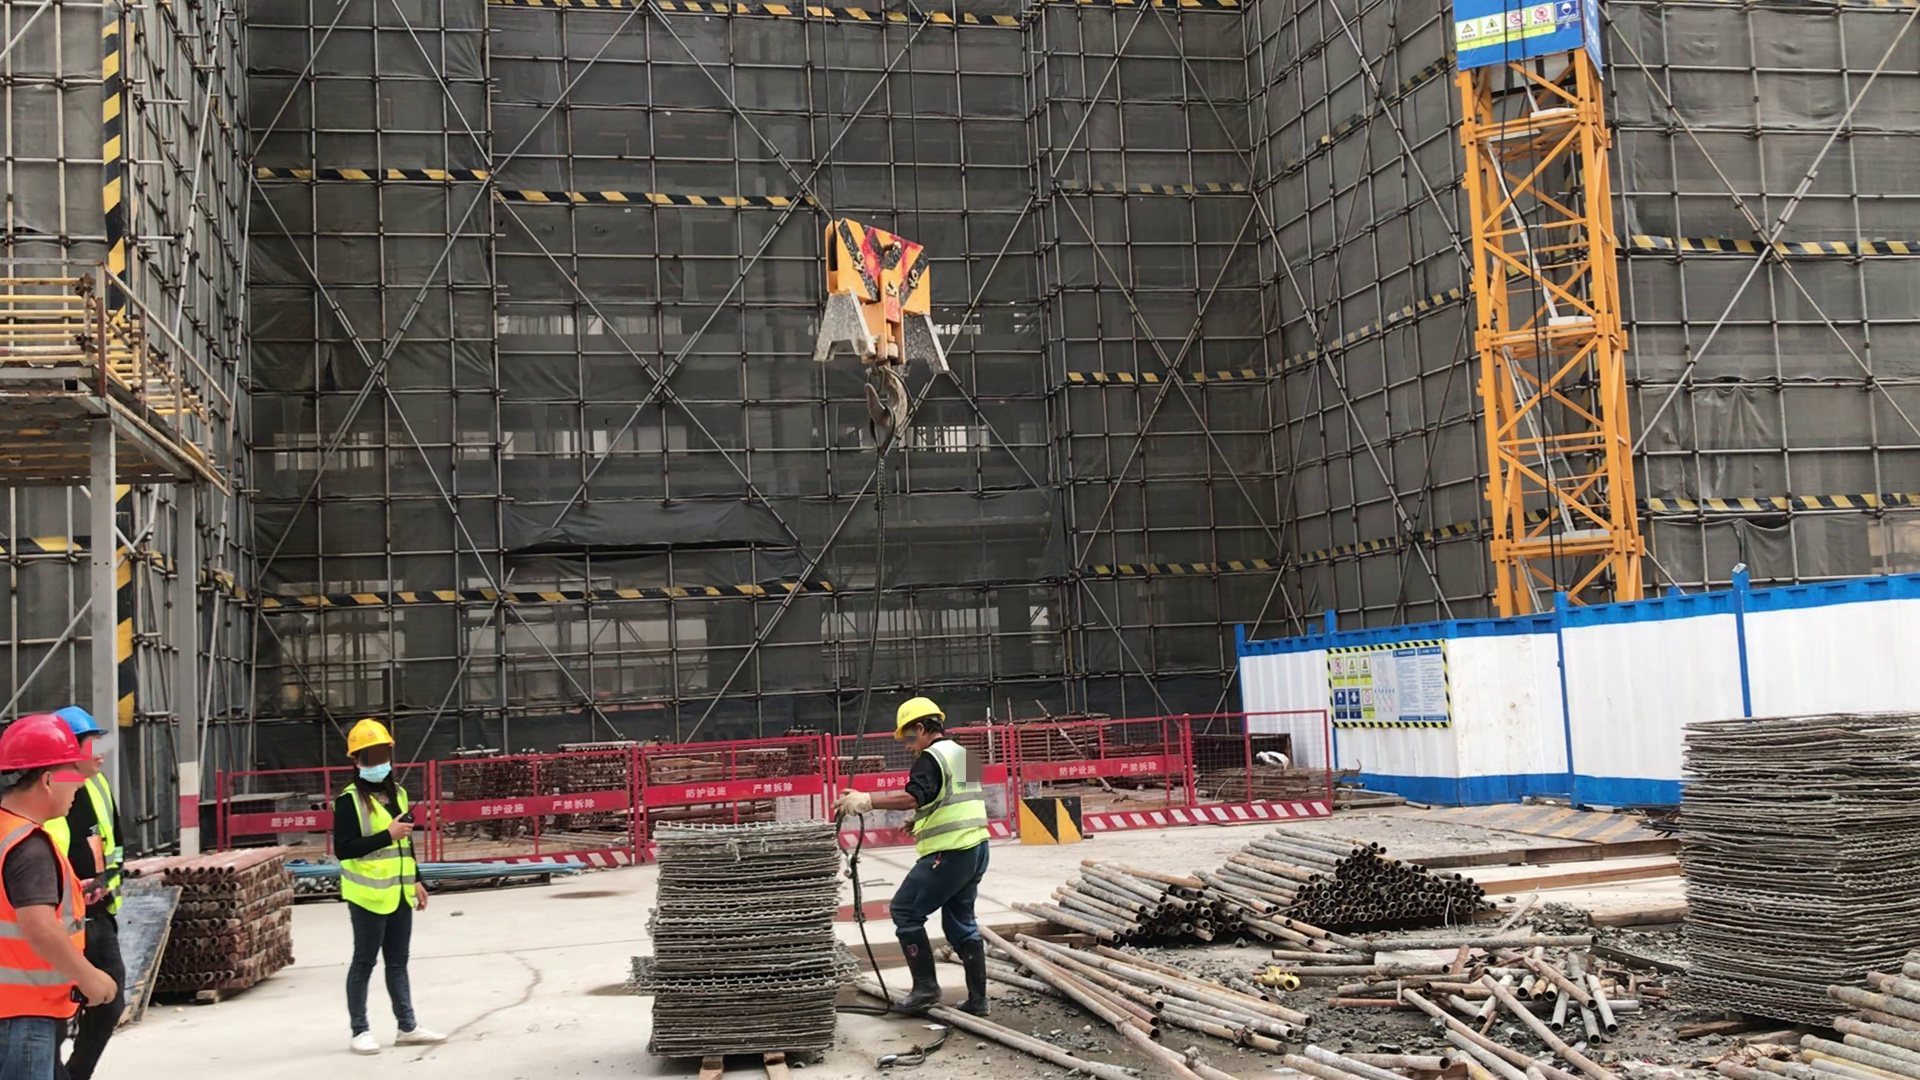fence: (1077, 711, 1332, 832), (430, 749, 651, 861), (652, 732, 828, 813), (213, 763, 328, 839)
helmet: (4, 720, 93, 776), (891, 697, 952, 742), (344, 719, 395, 765), (67, 708, 108, 743)
hook: (797, 216, 951, 432)
person: (323, 716, 456, 1052), (1, 716, 121, 1080), (882, 697, 999, 1020)
scaffold: (1237, 831, 1482, 935), (145, 843, 299, 991), (1011, 860, 1241, 957)
slogan: (1330, 641, 1450, 726), (1458, 1, 1575, 69)
vest: (3, 816, 84, 1022), (332, 776, 422, 916), (910, 746, 989, 860), (93, 772, 130, 915)
